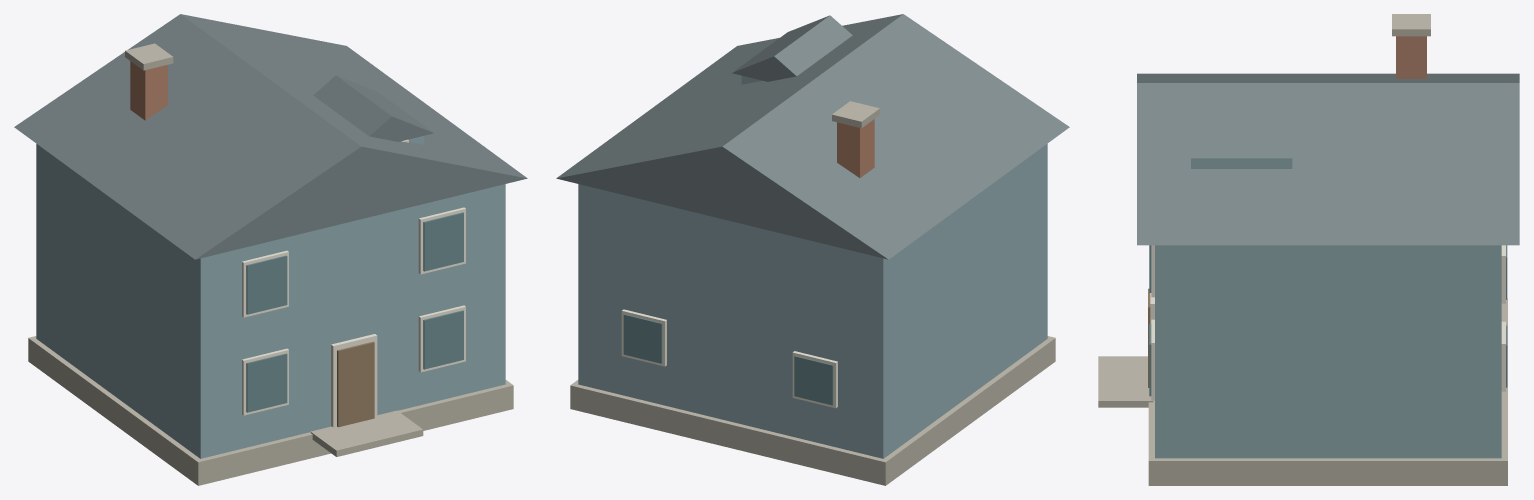
3 renders of one model, left to right at view 1: azimuth 30°, elevation 25°; view 2: azimuth 150°, elevation 25°; view 3: azimuth 270°, elevation 25°, orthographic. The views are drawn at different scales.
Size of the model in its own units: 9.6 by 8.9 by 9.97.
